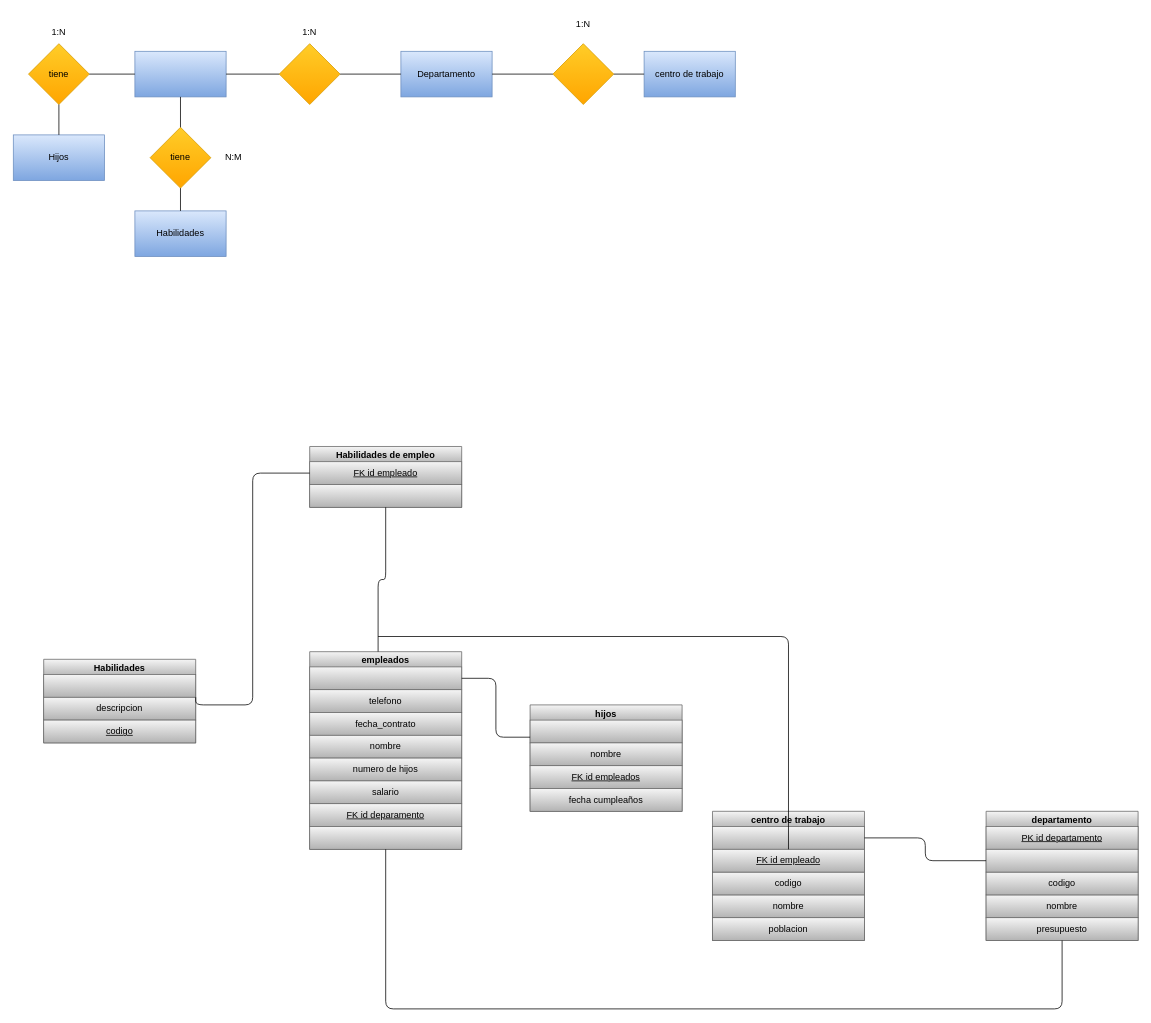
The diagram is 1151 pixels wide and 1023 high, and some of its shapes have lost their labels. The shapes that lost their labels are listed below. From the top down, each one's centre as x and y in pixels, then its label:
point 180,74: Empleado
point 309,73: asignado
point 583,73: Se situa
point 385,495: FK id habilidad
point 119,685: PK Id habilidades
point 385,678: PK Id empleados
point 605,731: PK Id hijos
point 385,837: nif
point 788,837: PK id centro de trabajo
point 1061,860: FK id centro trabajo
